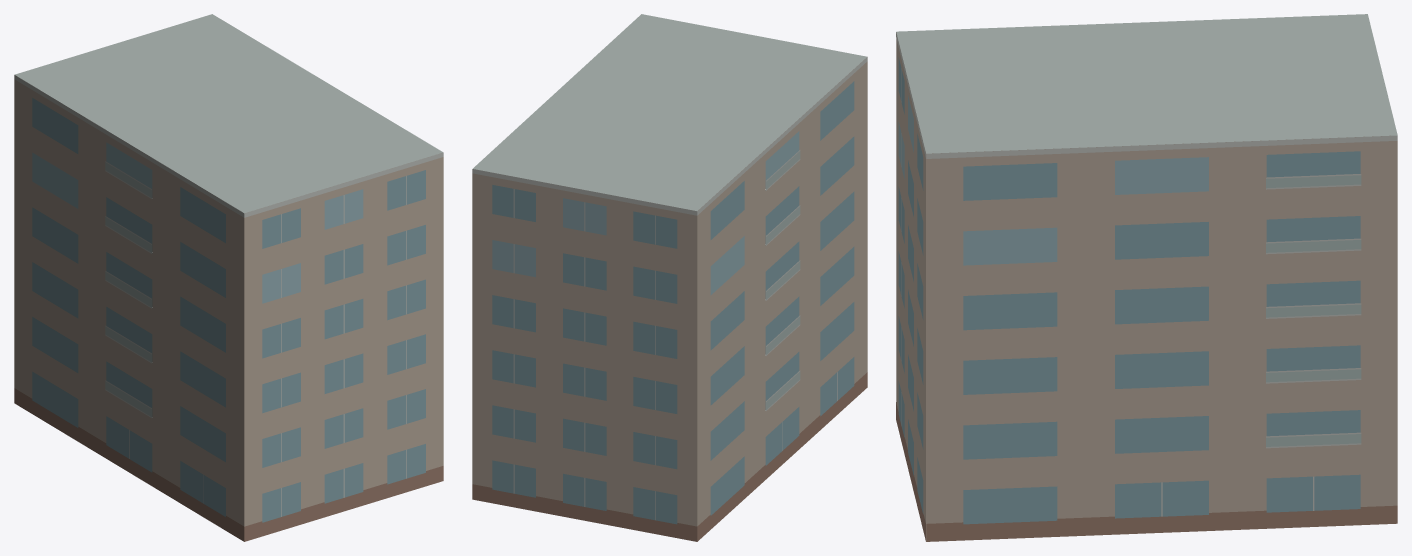
Rendered from survey-upis-32680221.glb.
3 renders of one model, left to right at view 1: azimuth 30°, elevation 25°; view 2: azimuth 150°, elevation 25°; view 3: azimuth 270°, elevation 25°, orthographic. The views are drawn at different scales.
Parts seen in each view (by area): view 1: survey-upis-32680221.tmp; view 2: survey-upis-32680221.tmp; view 3: survey-upis-32680221.tmp.
Boxes of the visible parts, bbox=[...] form: survey-upis-32680221.tmp: bbox=[14, 14, 443, 541]; survey-upis-32680221.tmp: bbox=[472, 14, 867, 541]; survey-upis-32680221.tmp: bbox=[896, 14, 1397, 541].
Bounding box in the file's own units: 13.71 × 17.75 × 20.8.
